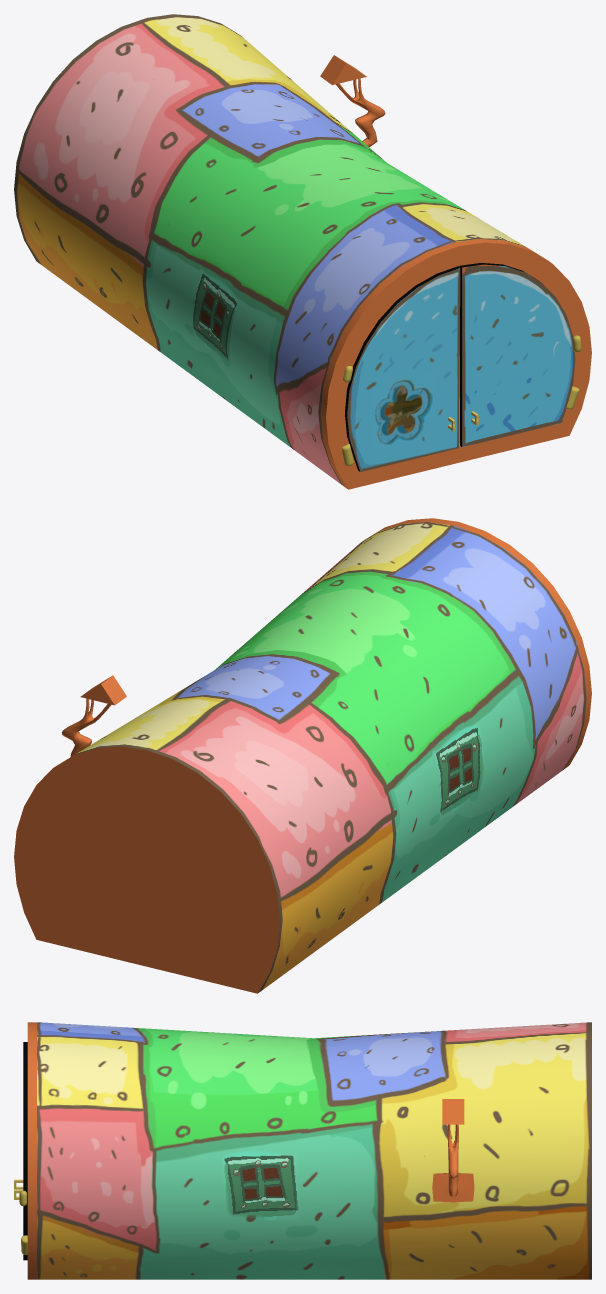
File: Pin_angar.glb
3 renders of one model, top to bottom at view 1: azimuth 30°, elevation 25°; view 2: azimuth 150°, elevation 25°; view 3: azimuth 270°, elevation 25°, orthographic. The views are drawn at different scales.
Parts seen in each view (by area): view 1: ground, ground.001, ground.002, chimney; view 2: ground, chimney; view 3: ground, chimney, ground.002.
Boxes of the visible parts, <box> form: ground: <box>14,14,591,489</box>; ground.001: <box>345,266,460,471</box>; ground.002: <box>460,263,575,447</box>; chimney: <box>320,55,385,147</box>; ground: <box>14,518,591,993</box>; chimney: <box>62,675,126,756</box>; ground: <box>27,1022,591,1279</box>; chimney: <box>432,1099,474,1202</box>; ground.002: <box>14,1053,27,1260</box>.
Size of the model in its own units: 9.09 by 6.4 by 17.11.
Materials: 2 (1 with a texture image).
